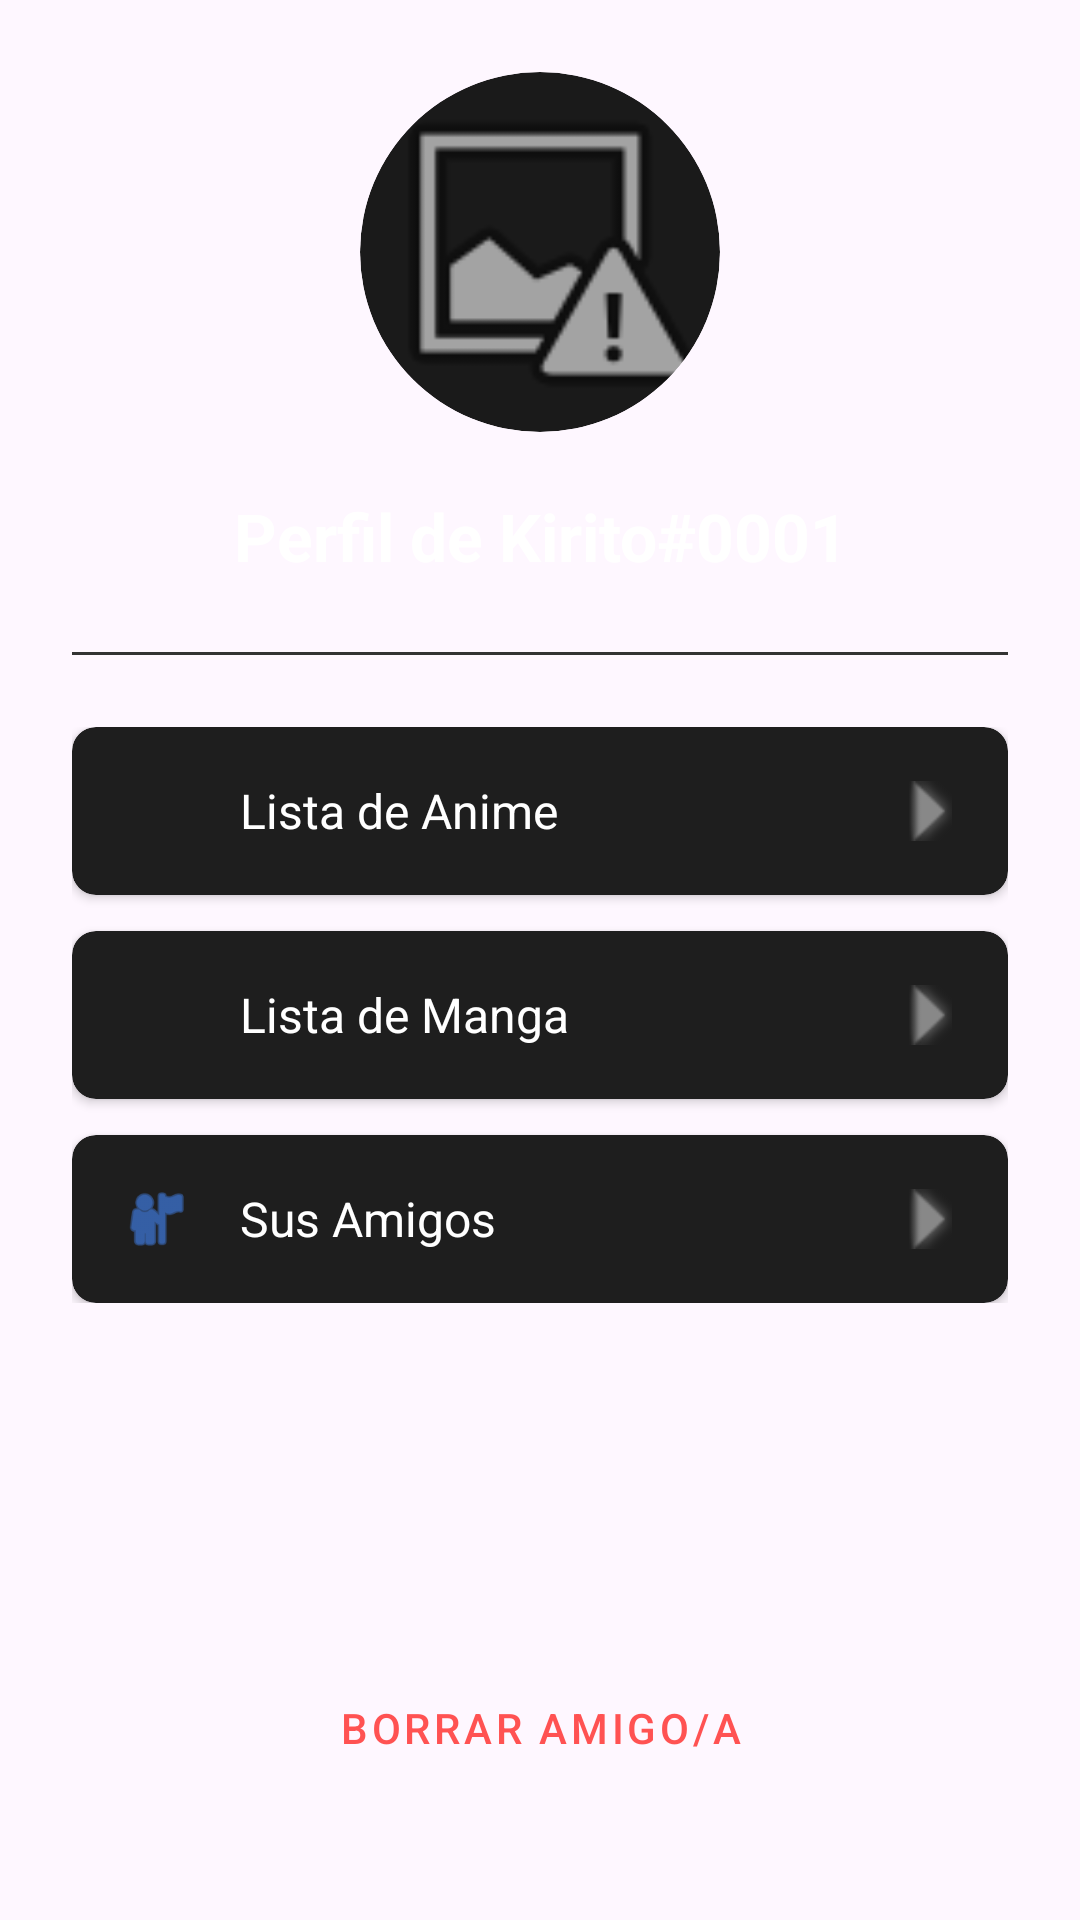

Point at icon controls on the screen. Image size 1080px x 1920px, points as (x=x, y=y).
myplaces: (x=157, y=1219)
